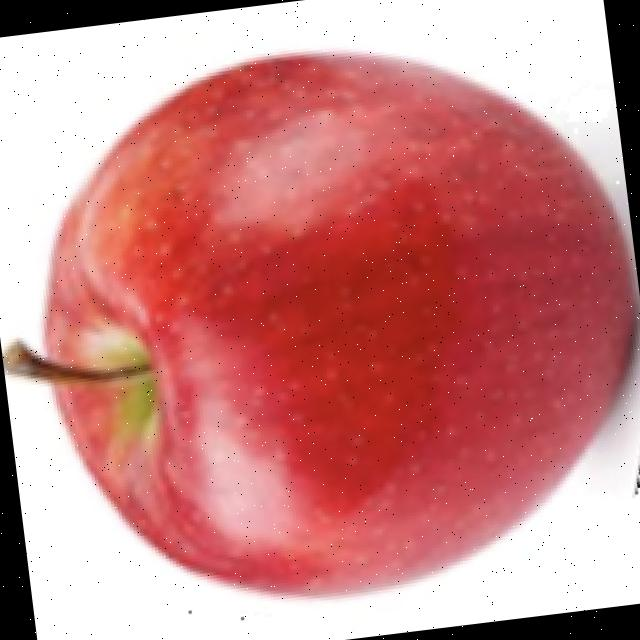apple: (0, 41, 640, 606)
